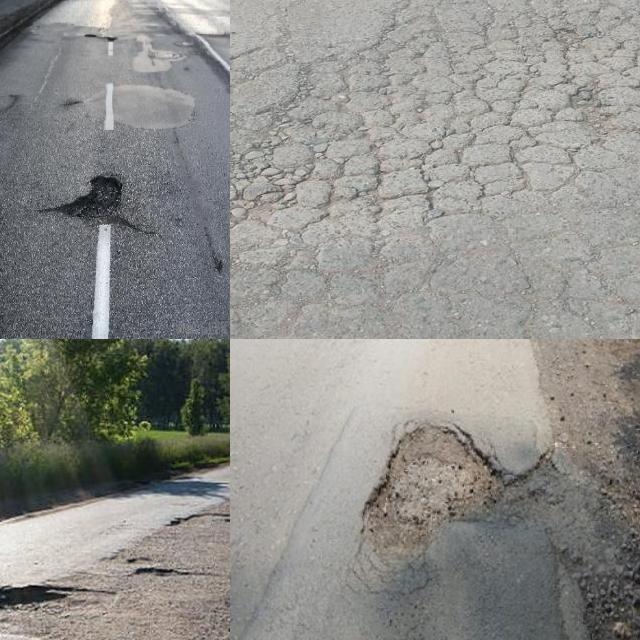Lubang: (359, 422, 544, 574), (57, 176, 133, 228), (0, 582, 79, 620)
Retak Buaya: (230, 0, 640, 252)
